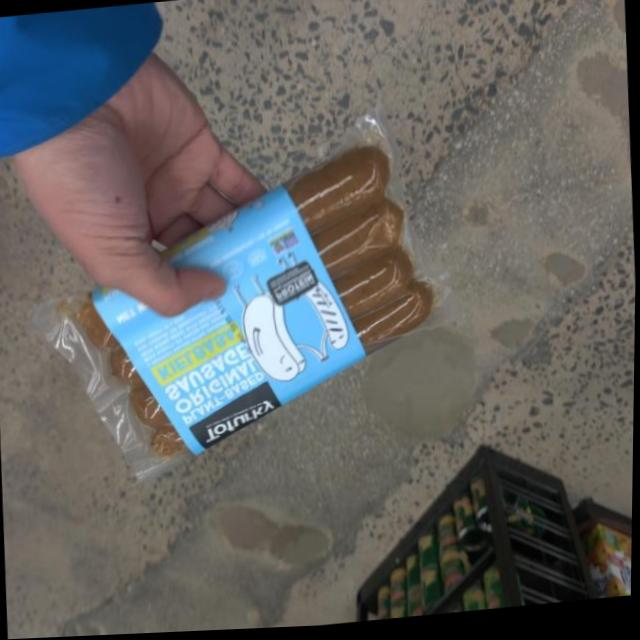Meat: (60, 114, 442, 468)
